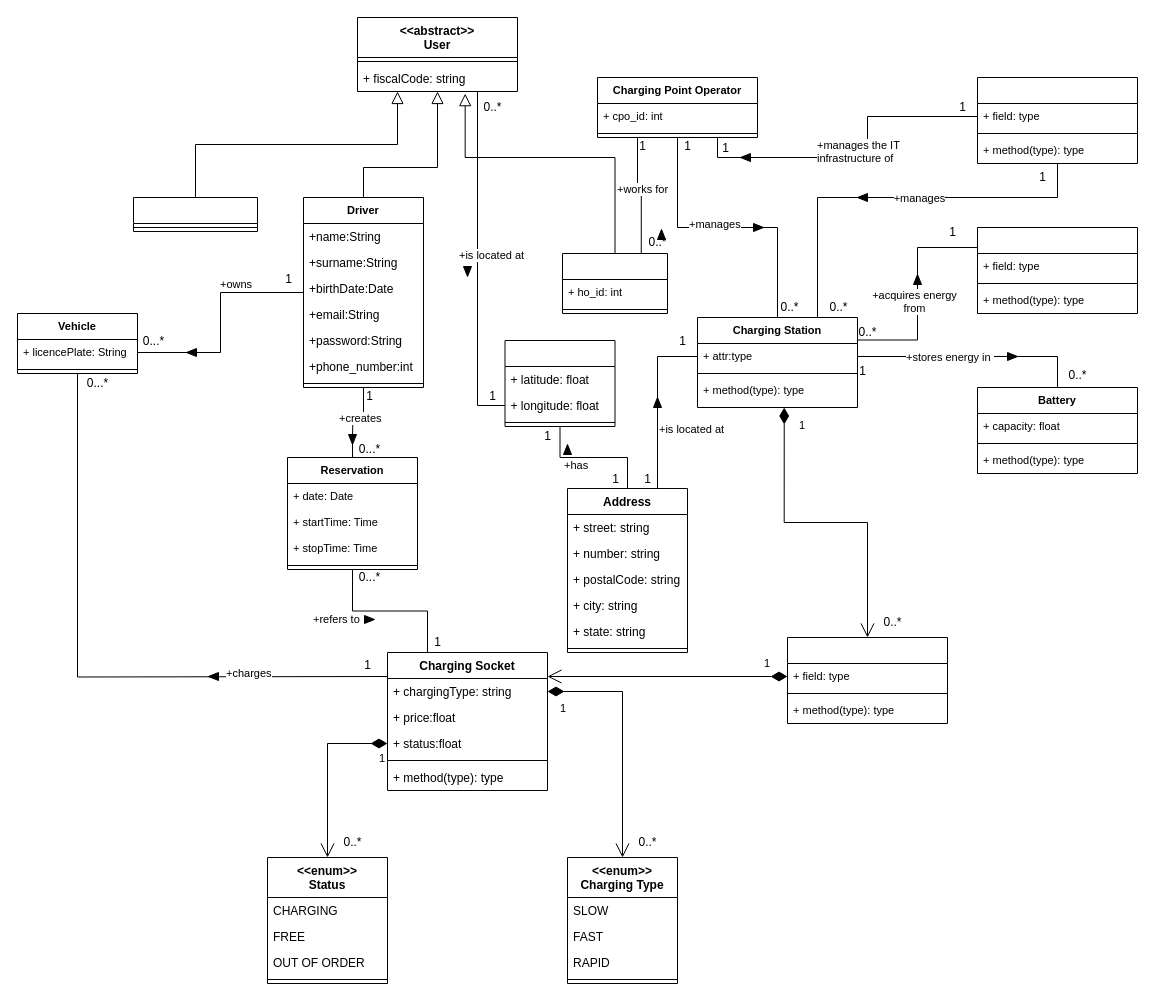
Some shapes in this 1155 by 1001 pixel diagram are drawn without their labels. The box of each missing label's shape, as (x1, y1, x2, y2) in pixels:
Anonymous Driver: (132, 196, 258, 232)
Charging Point: (786, 636, 948, 724)
Charging Point MS: (976, 76, 1138, 164)
Coordinates: (504, 340, 615, 426)
Distribution System Operator: (976, 226, 1138, 314)
Human Operator: (562, 252, 668, 314)
